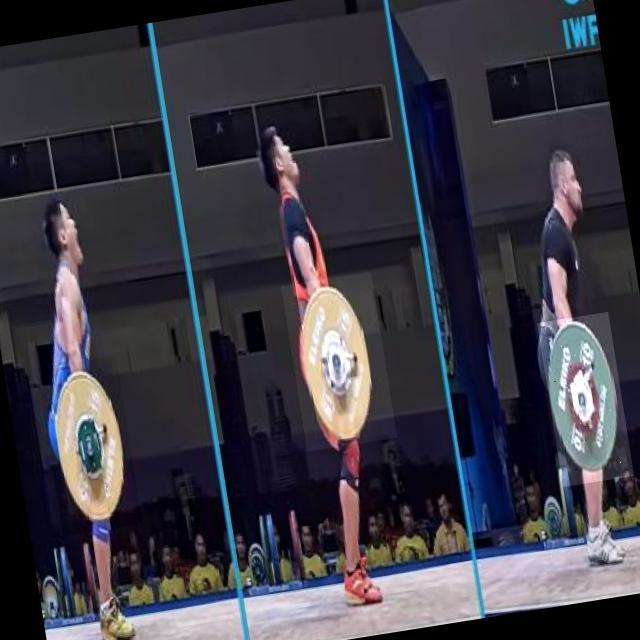barbell: (282, 273, 398, 453), (38, 357, 144, 538), (538, 313, 635, 488)
